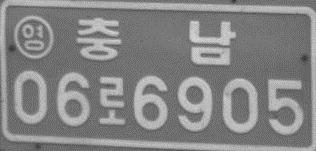0: (222, 78, 260, 134), (14, 69, 47, 124)
5: (266, 78, 305, 137)
6: (131, 74, 169, 131), (56, 70, 90, 128)
9: (175, 75, 214, 132)
로: (98, 76, 128, 126)
영: (14, 13, 53, 60)
충남_D: (75, 16, 235, 66)
